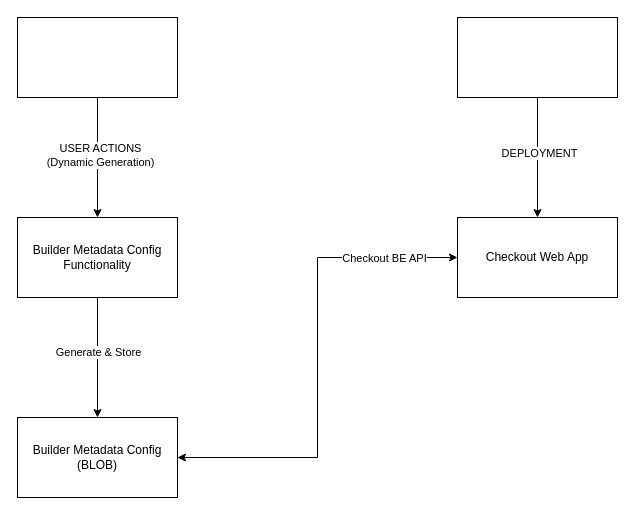
This 635x515 diagram has some shape labels left out. The centre of each missing label's shape, as x and y in pixels:
Checkout Code: the point at 537,57
Checkout Component Props and Functionality Dependency: the point at 97,57
